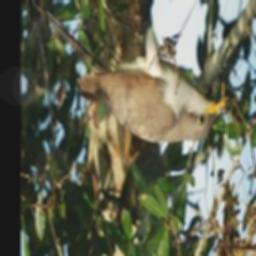Cuckoo: (74, 0, 229, 148)
